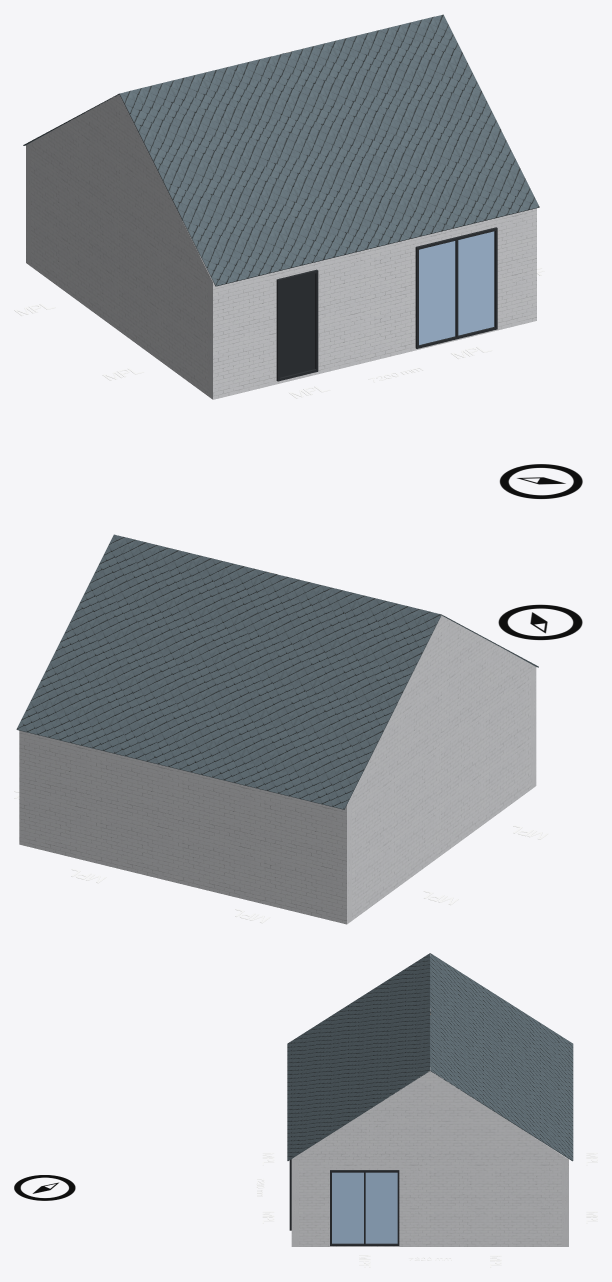
The picture shows the model from 3 angles, top to bottom: view 1: azimuth 30°, elevation 25°; view 2: azimuth 150°, elevation 25°; view 3: azimuth 270°, elevation 25°; orthographic projection. The views are drawn at different scales.
Visible parts, largest first — view 1: Travee 2>toit_excluded, Travee 3>toit_excluded, Travee 1>AV, Travee 2>PEXT_gauche_excluded, Travee 1>PGAR, Travee 1>PGAV, Travee 2>AV, Travee 2>AV>Ouverture PF>Vitre, Travee 1>AV>Ouverture PE>Porte, excluded (×2), boussole, Travee 1>AR; view 2: Travee 2>toit_excluded, Travee 3>toit_excluded, Travee 1>AR, Travee 2>AR, Travee 2>PEXT_gauche_excluded, Travee 1>PGAR, Travee 1>PGAV, boussole, Travee 1>AV; view 3: Travee 3>toit_excluded (×2), Travee 2>toit_excluded (×2), Travee 3>PEXT_droit_excluded, Travee 2>PDAR, Travee 2>PDAV, Travee 2>PDAV>Ouverture PF>Vitre, excluded, Travee 2>AV, Travee 2>AR, boussole.
Boxes of the visible parts, x1,y1,x2,y2 form: Travee 2>toit_excluded: (119,54,377,286); Travee 3>toit_excluded: (282,14,539,246); Travee 1>AV: (208,248,374,399); Travee 2>PEXT_gauche_excluded: (26,92,212,281); Travee 1>PGAR: (31,149,119,331); Travee 1>PGAV: (119,214,207,395); Travee 2>AV: (375,208,536,360); Travee 2>AV>Ouverture PF>Vitre: (419,231,494,344); Travee 1>AV>Ouverture PE>Porte: (280,273,315,377); excluded (×2): (276,227,497,381); boussole: (499,464,582,498); Travee 1>AR: (26,145,31,266); Travee 2>toit_excluded: (180,574,441,809); Travee 3>toit_excluded: (16,534,277,769); Travee 1>AR: (183,770,352,924); Travee 2>AR: (19,730,182,884); Travee 2>PEXT_gauche_excluded: (347,612,535,804); Travee 1>PGAR: (352,736,441,920); Travee 1>PGAV: (441,671,530,854); boussole: (498,604,582,639); Travee 1>AV: (531,667,536,789); Travee 3>toit_excluded (×2): (287,1012,573,1161); Travee 2>toit_excluded (×2): (287,953,573,1101); Travee 3>PEXT_droit_excluded: (291,1067,568,1159); Travee 2>PDAR: (430,1159,561,1246); Travee 2>PDAV: (299,1159,430,1246); Travee 2>PDAV>Ouverture PF>Vitre: (332,1172,397,1243); excluded: (330,1170,399,1245); Travee 2>AV: (291,1159,299,1246); Travee 2>AR: (561,1159,568,1246); boussole: (14,1175,75,1200).
Size of what is drawn, in the model's own units: 97.61 by 50.61 by 152.
